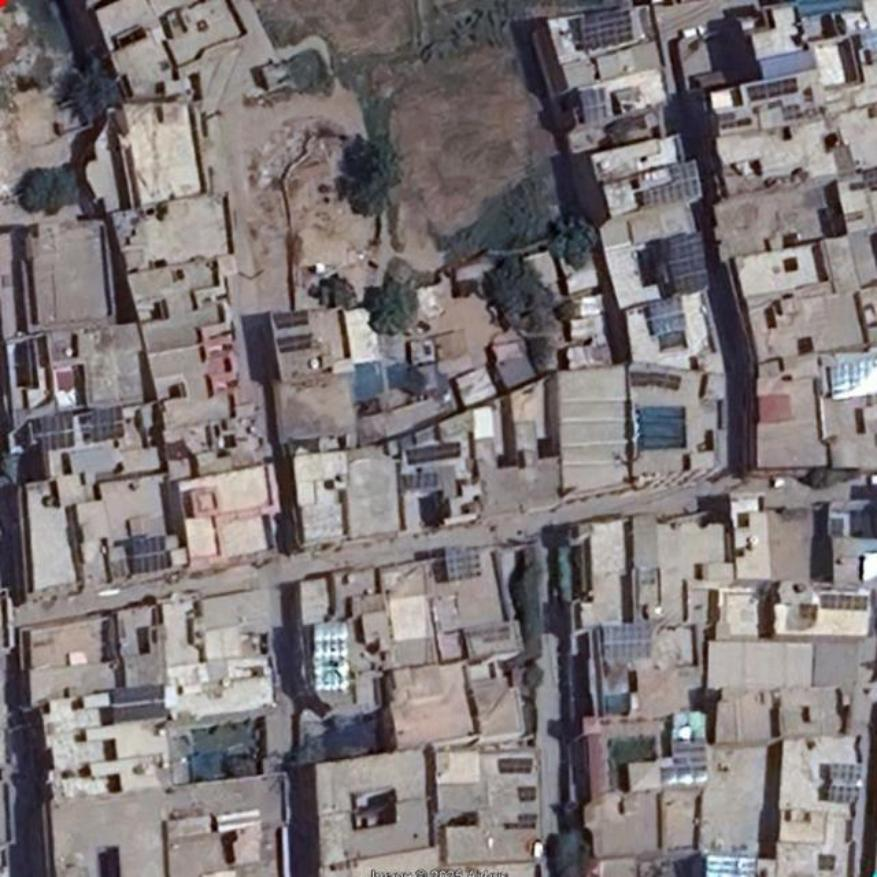Solarpanel: (640, 160, 702, 206), (665, 233, 710, 295), (315, 622, 350, 690), (830, 355, 876, 399), (580, 8, 631, 47), (601, 624, 652, 659), (133, 534, 173, 574), (39, 416, 74, 450), (447, 548, 480, 582), (91, 408, 125, 439), (632, 371, 683, 391), (409, 443, 462, 462), (581, 89, 610, 120), (277, 333, 311, 351), (498, 759, 537, 772), (272, 312, 308, 326)
